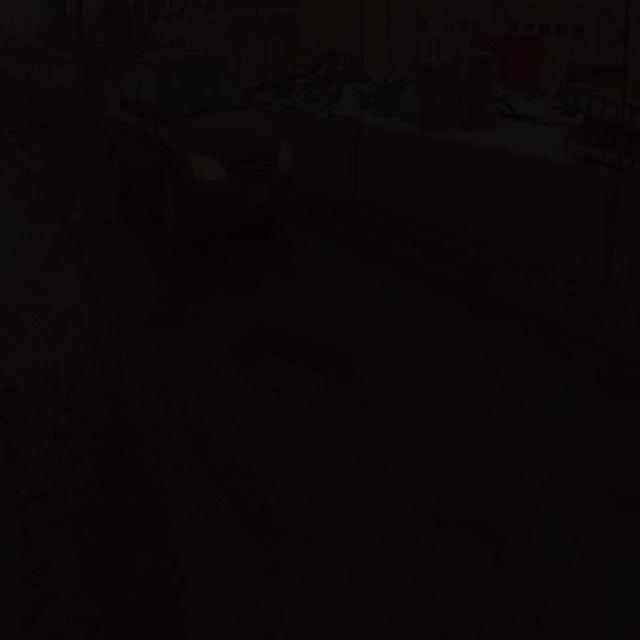Pothole: (225, 320, 352, 406), (410, 507, 491, 595)
